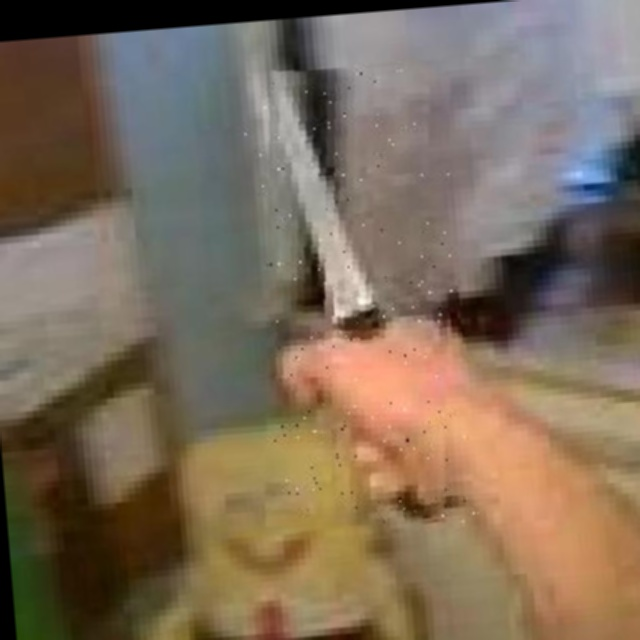Sharp-Object: (240, 60, 477, 539)
